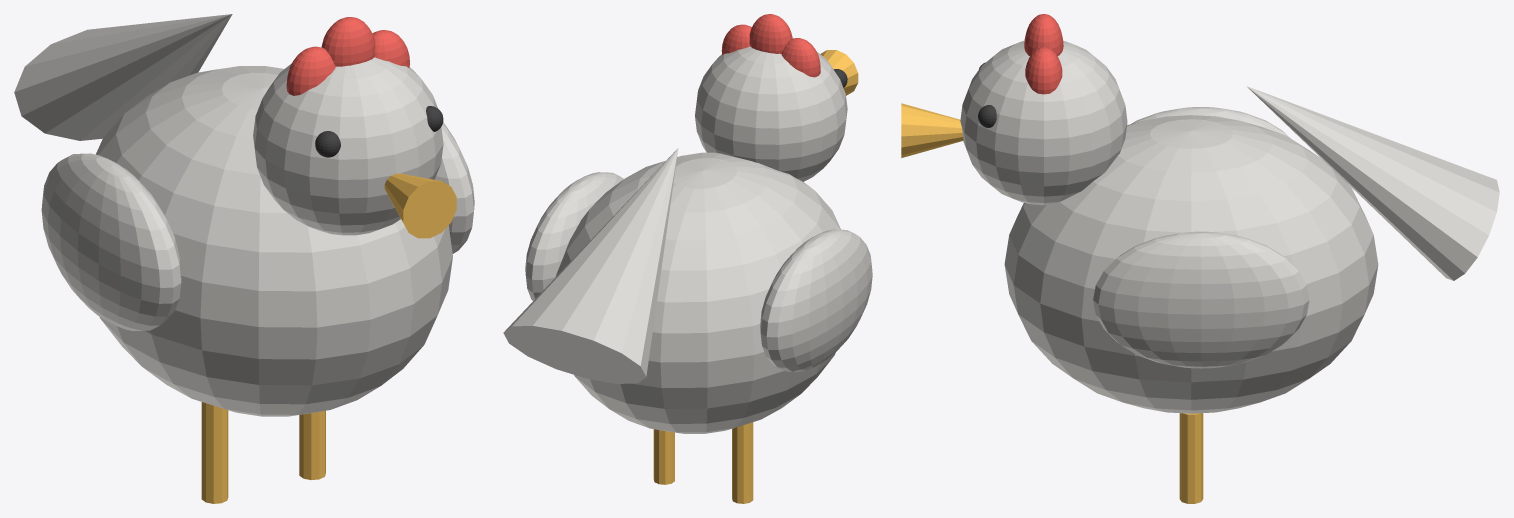
The model's file is cucco.glb.
3 views of the same model, side by side, from view 1: azimuth 30°, elevation 25°; view 2: azimuth 150°, elevation 25°; view 3: azimuth 270°, elevation 25° (orthographic). The views are drawn at different scales.
Visible parts, largest first — view 1: body, head, wingL, tail, beak, leg-1, wingR, comb1, leg1, comb0, comb2, eye-1; view 2: body, tail, head, wingL, wingR, leg-1, comb1, leg1, comb0, beak, comb2; view 3: body, wingR, head, tail, beak, leg1, comb2, comb1, wingL.
Part boxes in pixels (bbox=[...]): body: bbox=[96, 66, 452, 416]; head: bbox=[253, 57, 443, 235]; wingL: bbox=[41, 153, 181, 330]; tail: bbox=[14, 14, 232, 140]; beak: bbox=[384, 173, 456, 238]; leg-1: bbox=[201, 402, 228, 503]; wingR: bbox=[435, 122, 474, 253]; comb1: bbox=[321, 17, 375, 66]; leg1: bbox=[299, 410, 325, 479]; comb0: bbox=[286, 46, 335, 95]; comb2: bbox=[372, 30, 409, 67]; eye-1: bbox=[315, 131, 340, 157]; body: bbox=[556, 152, 840, 433]; tail: bbox=[503, 148, 678, 383]; head: bbox=[695, 46, 847, 181]; wingL: bbox=[760, 229, 872, 371]; wingR: bbox=[525, 172, 623, 300]; leg-1: bbox=[732, 422, 753, 503]; comb1: bbox=[749, 14, 792, 53]; leg1: bbox=[653, 429, 674, 484]; comb0: bbox=[781, 38, 820, 77]; beak: bbox=[820, 50, 858, 95]; comb2: bbox=[721, 24, 751, 54]; body: bbox=[1004, 115, 1378, 413]; wingR: bbox=[1093, 231, 1309, 368]; head: bbox=[960, 40, 1127, 205]; tail: bbox=[1246, 86, 1499, 280]; beak: bbox=[901, 103, 963, 157]; leg1: bbox=[1179, 413, 1203, 503]; comb2: bbox=[1025, 47, 1062, 94]; comb1: bbox=[1024, 14, 1063, 56]; wingL: bbox=[1131, 107, 1290, 138].
Size of the model in its own units: 0.37 by 0.519 by 0.6084.
